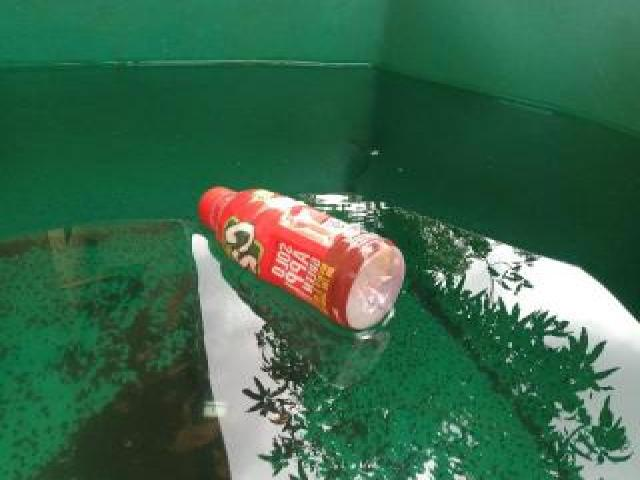Bottle: (188, 177, 416, 336)
